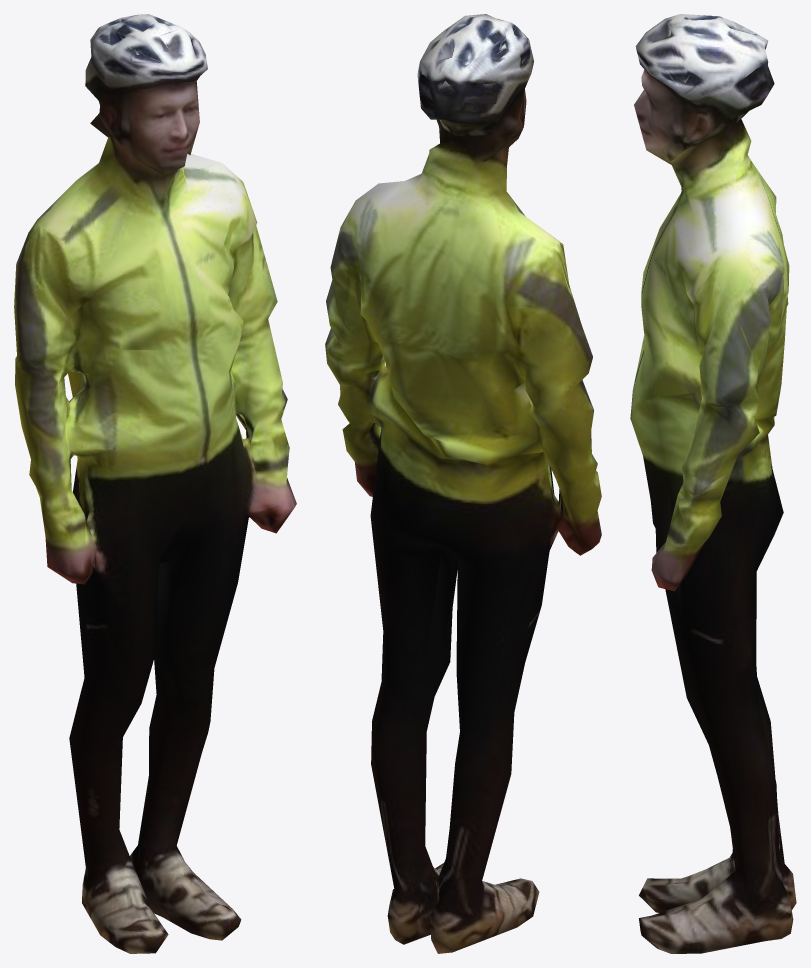
Rendered from 06_person.glb.
The picture shows the model from 3 angles, left to right: view 1: azimuth 30°, elevation 25°; view 2: azimuth 150°, elevation 25°; view 3: azimuth 270°, elevation 25°; orthographic projection.
Size of the model in its own units: 29.64 by 99.72 by 16.6.
1 material, 1 textured.
